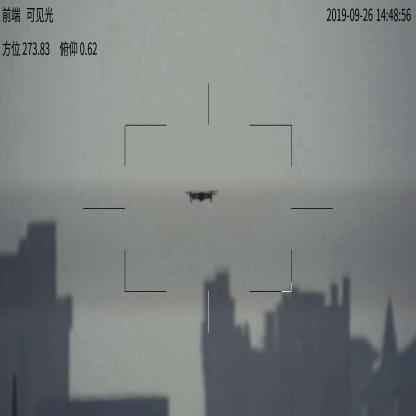uav: (184, 189, 220, 205)
